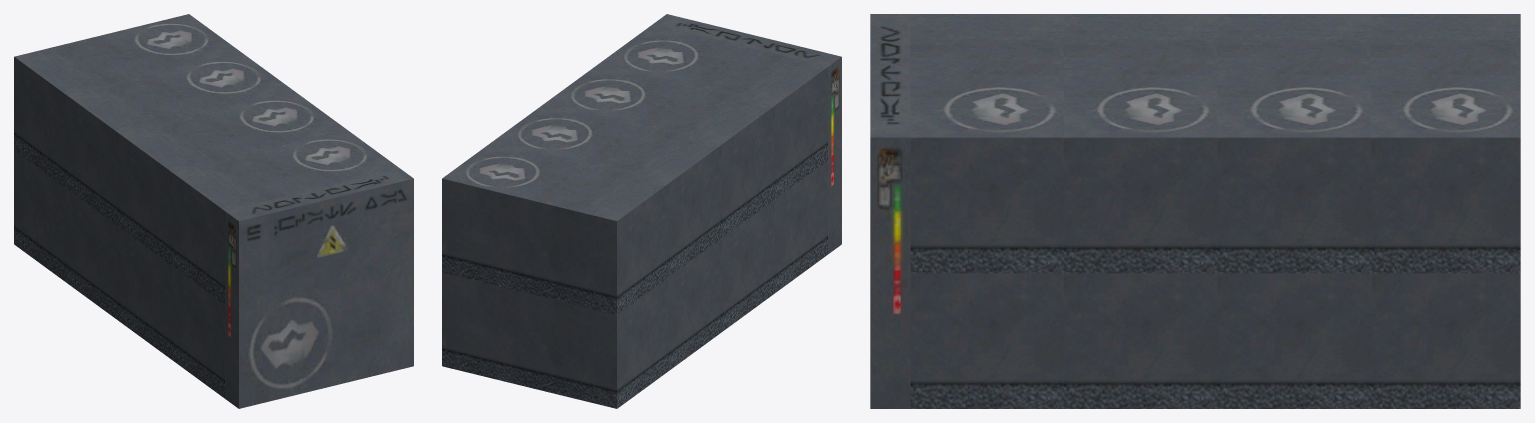
File: con_gen_inorganic_minerals_sml_l2.fbx
3 renders of one model, left to right at view 1: azimuth 30°, elevation 25°; view 2: azimuth 150°, elevation 25°; view 3: azimuth 270°, elevation 25°, orthographic. The views are drawn at different scales.
Parts seen in each view (by area): view 1: mesh_node; view 2: mesh_node; view 3: mesh_node.
Part boxes in pixels (x1,y1,x2,y2): mesh_node: [14, 14, 413, 408]; mesh_node: [442, 14, 841, 408]; mesh_node: [870, 14, 1520, 408].
Size of the model in its own units: 0.5285 by 0.5418 by 1.18.
